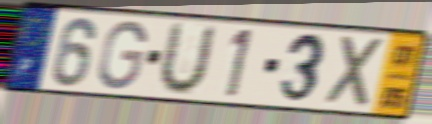1: (223, 26, 257, 101)
3: (277, 29, 329, 107)
6: (50, 14, 98, 89)
G: (94, 19, 150, 92)
U: (153, 19, 219, 98)
X: (323, 33, 388, 111)
